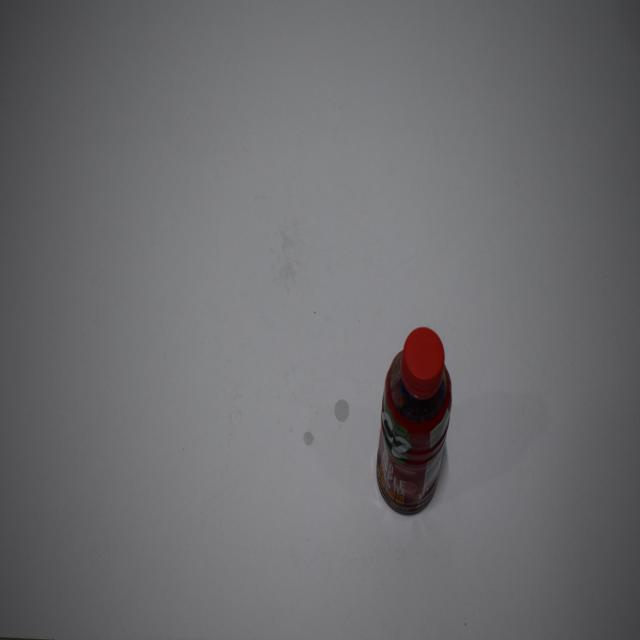bottle: (374, 321, 454, 523)
